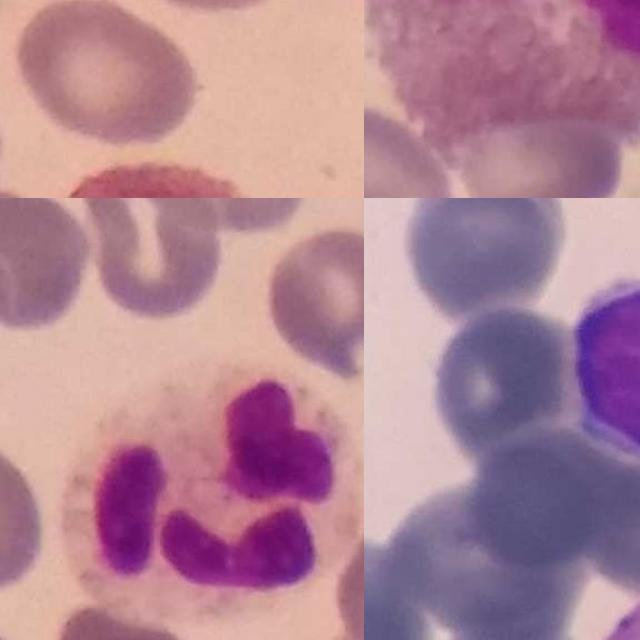Eosinophil: (364, 0, 640, 147)
Lymphocyte: (572, 276, 640, 464)
Neutrophil: (58, 358, 364, 622)
